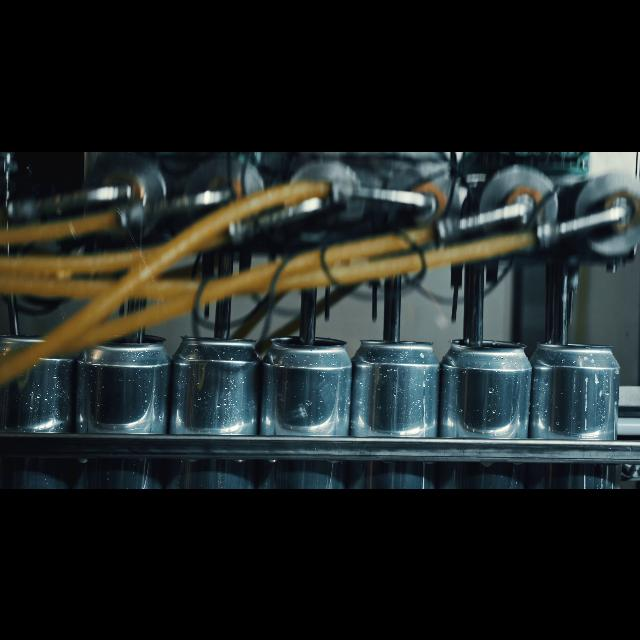empty: (263, 324, 349, 488), (529, 339, 623, 488), (172, 330, 260, 488), (356, 334, 442, 488), (84, 330, 166, 488), (444, 338, 530, 488), (1, 336, 77, 488)
